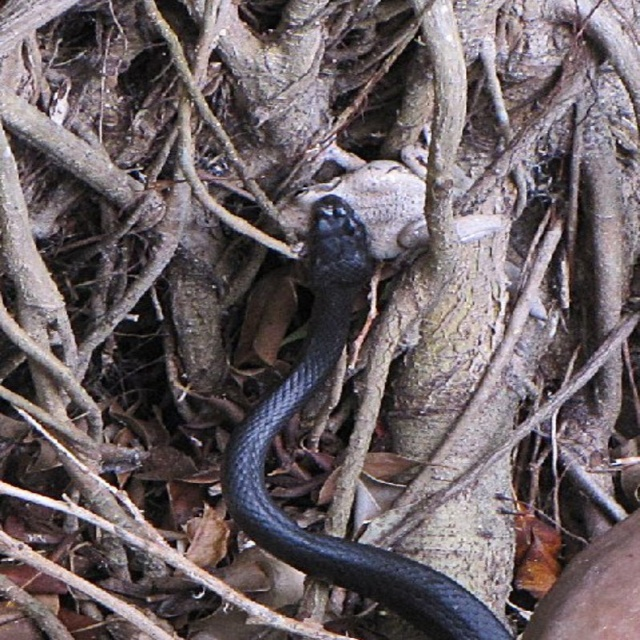Snake: (223, 196, 513, 639)
